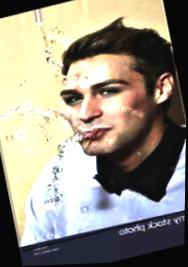spitting: (0, 0, 187, 253)
